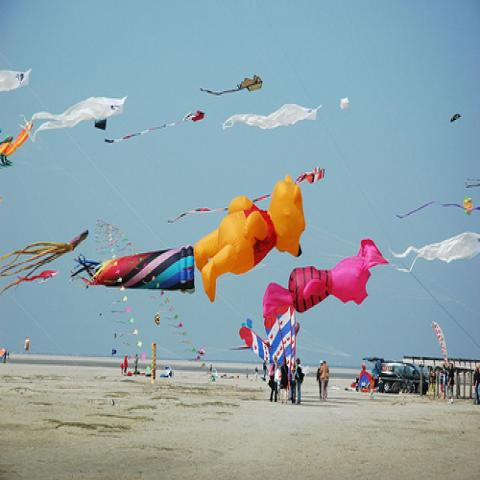car: (378, 361, 429, 396)
